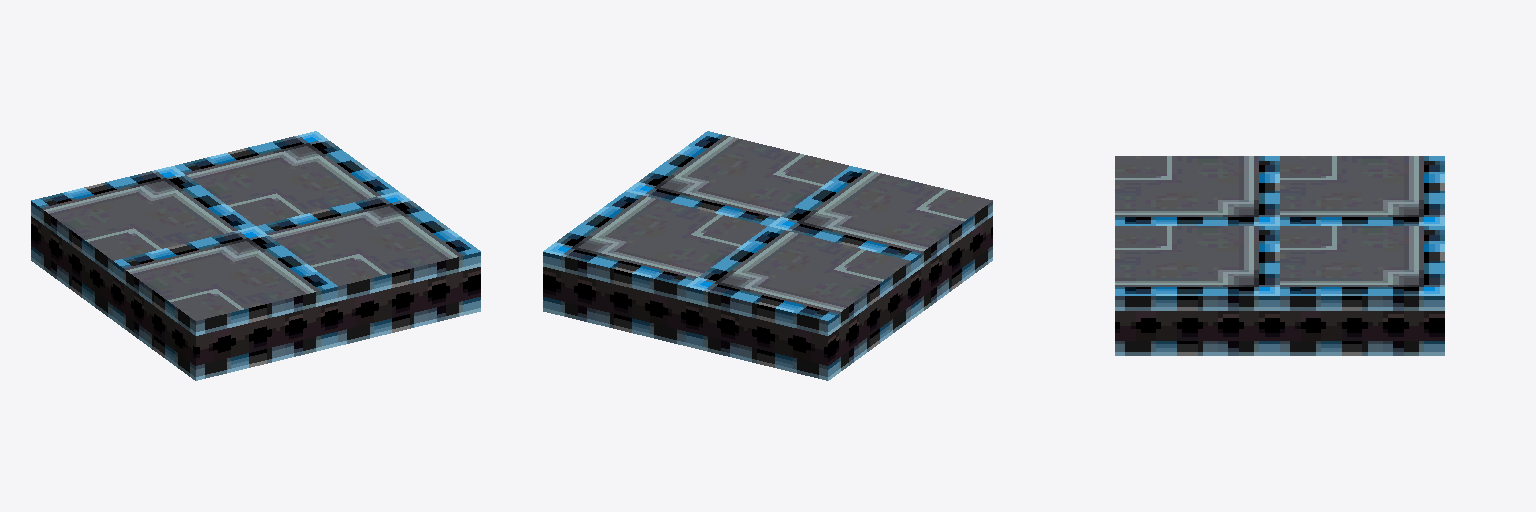
The picture shows the model from 3 angles: view 1: azimuth 30°, elevation 25°; view 2: azimuth 150°, elevation 25°; view 3: azimuth 270°, elevation 25°; orthographic projection.
Parts seen in each view (by area): view 1: world_root; view 2: world_root; view 3: world_root.
Part boxes in pixels (x1,y1,x2,y2): world_root: (31,131,480,380); world_root: (543,131,992,380); world_root: (1115,156,1444,355).
Size of the model in its own units: 62.5 by 12.5 by 62.5.
Materials: 2 (2 with a texture image).